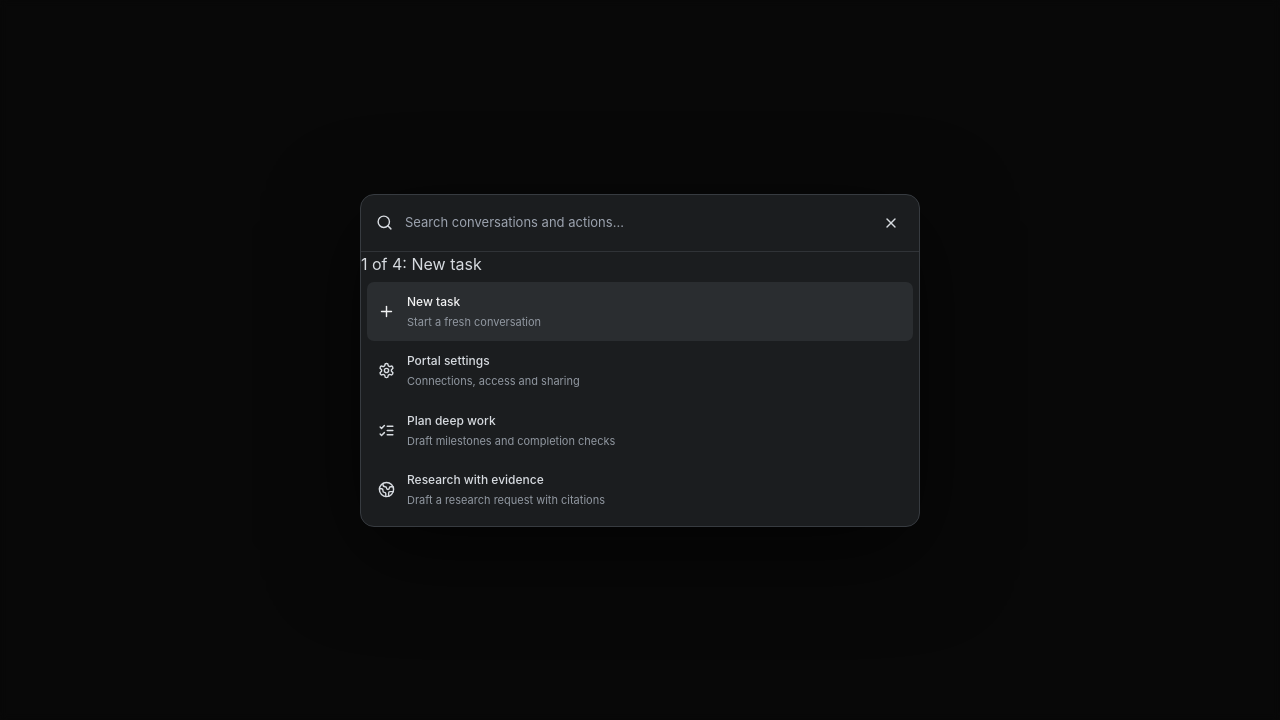
Test: keeps keyboard-selected results visible and announces the selected action
Press ArrowUp in the field labelled "Search conversations and actions", box [405,213,866,232]
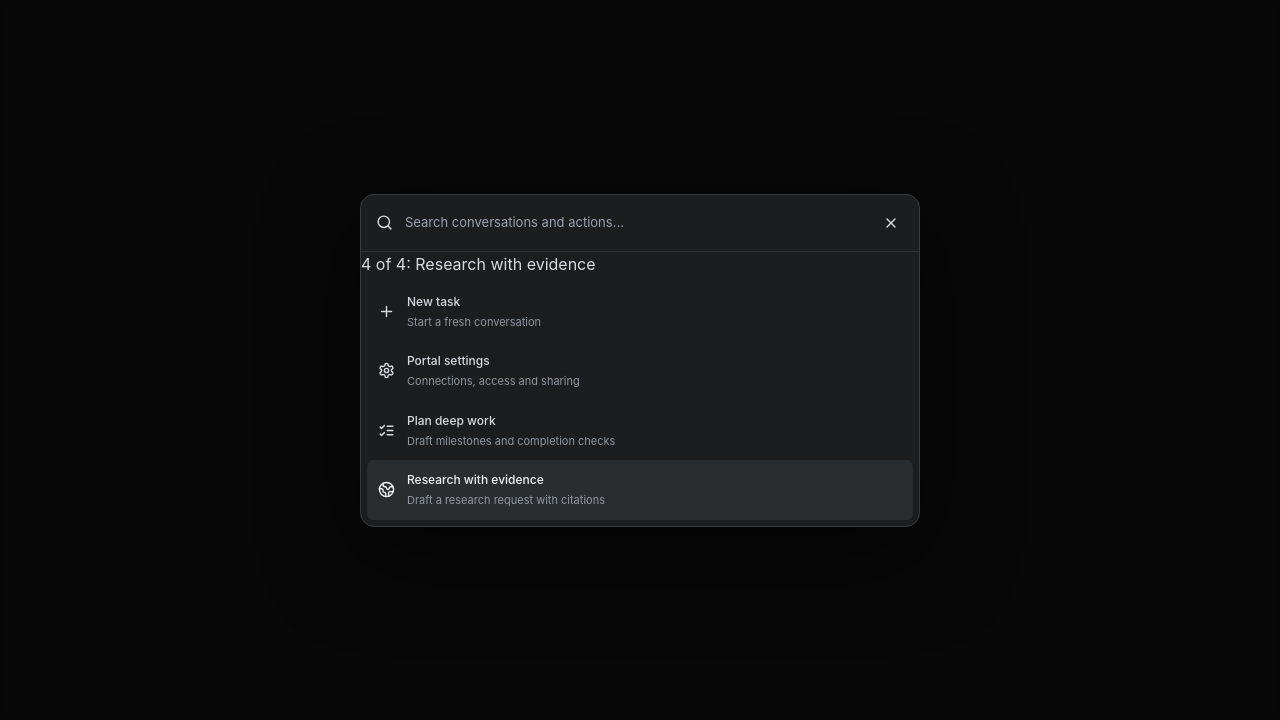
expect the message reads "4 of 4: Research with evidence": met, box [361,254,596,274]
Type "does not exist" into the field labelled "Search conversations and actions".
click(636, 223); type("does not exist")  # box [405,213,866,232]
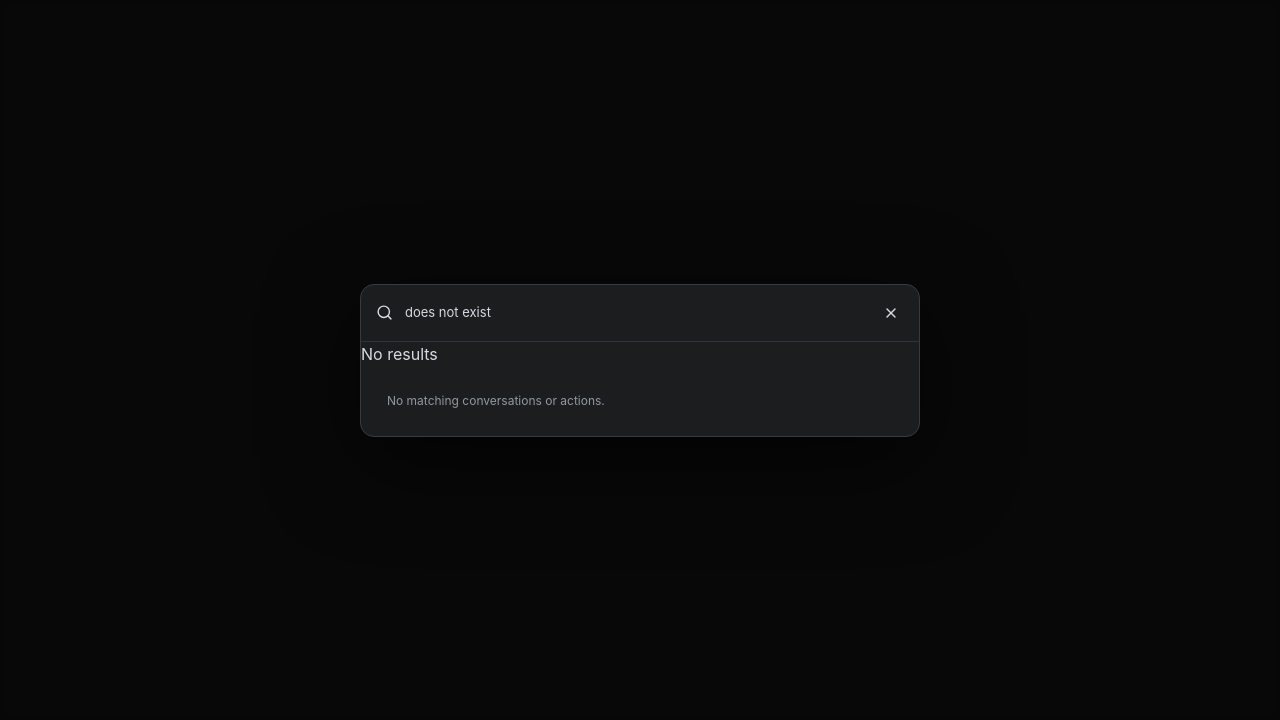
expect the message reads "No results": met, box [361,344,438,364]
